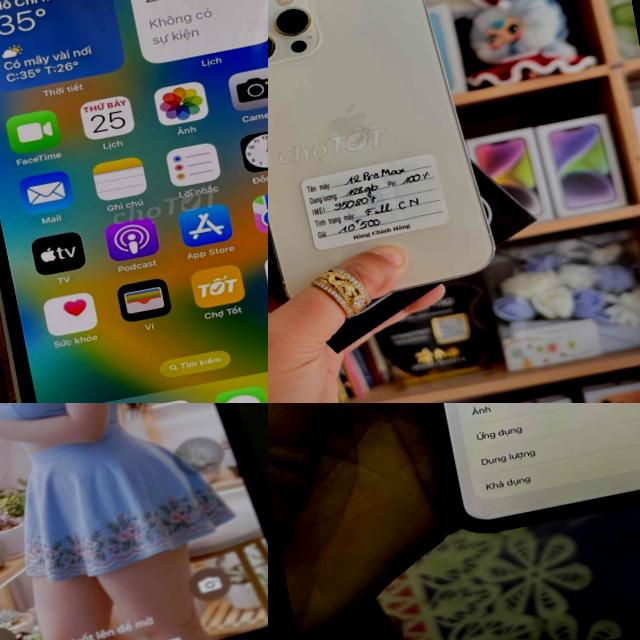gen_11: (0, 403, 268, 640), (341, 403, 640, 551)
gen_12_13: (268, 0, 509, 319)
gen_x_xs: (0, 0, 268, 403)
